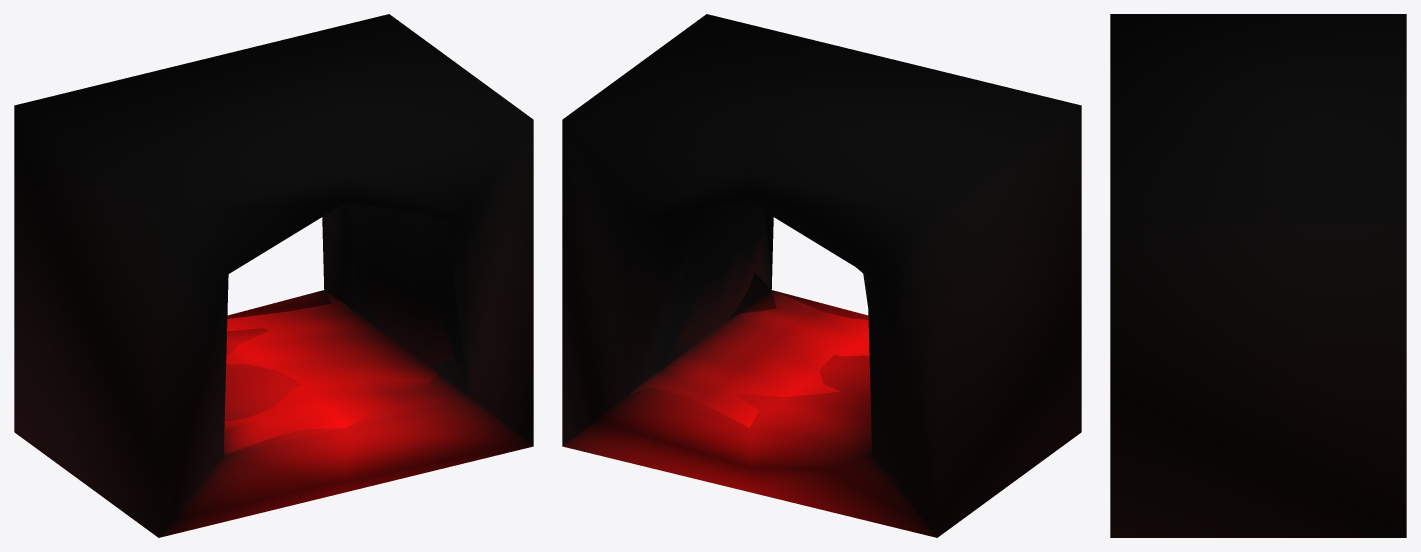
Rendered from JD_Cave_A_Tunnel_4x4_01.fbx.
3 views of the same model, side by side, from view 1: azimuth 30°, elevation 25°; view 2: azimuth 150°, elevation 25°; view 3: azimuth 270°, elevation 25° (orthographic). The views are drawn at different scales.
Parts seen in each view (by area): view 1: C_JD_Cave_A_Tunnel_4x4_01, JD_Cave_A_Tunnel_4x4_01; view 2: C_JD_Cave_A_Tunnel_4x4_01, JD_Cave_A_Tunnel_4x4_01; view 3: C_JD_Cave_A_Tunnel_4x4_01.
Boxes of the visible parts, bbox=[...] form: C_JD_Cave_A_Tunnel_4x4_01: bbox=[14, 14, 533, 537]; JD_Cave_A_Tunnel_4x4_01: bbox=[223, 204, 468, 454]; C_JD_Cave_A_Tunnel_4x4_01: bbox=[562, 14, 1081, 537]; JD_Cave_A_Tunnel_4x4_01: bbox=[628, 202, 869, 427]; C_JD_Cave_A_Tunnel_4x4_01: bbox=[1110, 14, 1406, 537].
Size of the model in its own units: 6 by 5 by 4.
